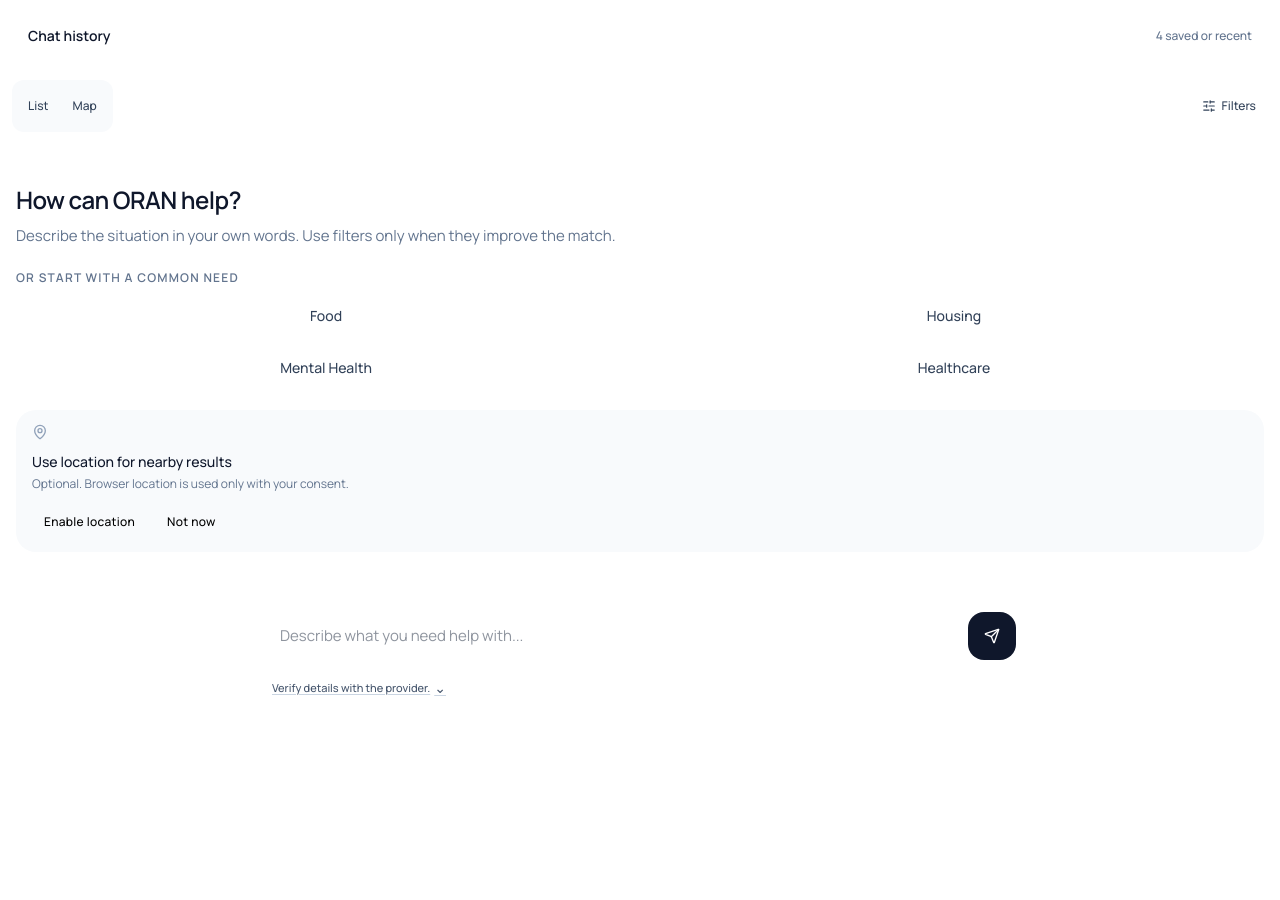
Test: ChatWindow interactions › handles Enter key submission and network failures gracefully
Type "Need assistance" into the text box named "Chat message input" at (612, 636), box left=264, top=612, right=960, bottom=660
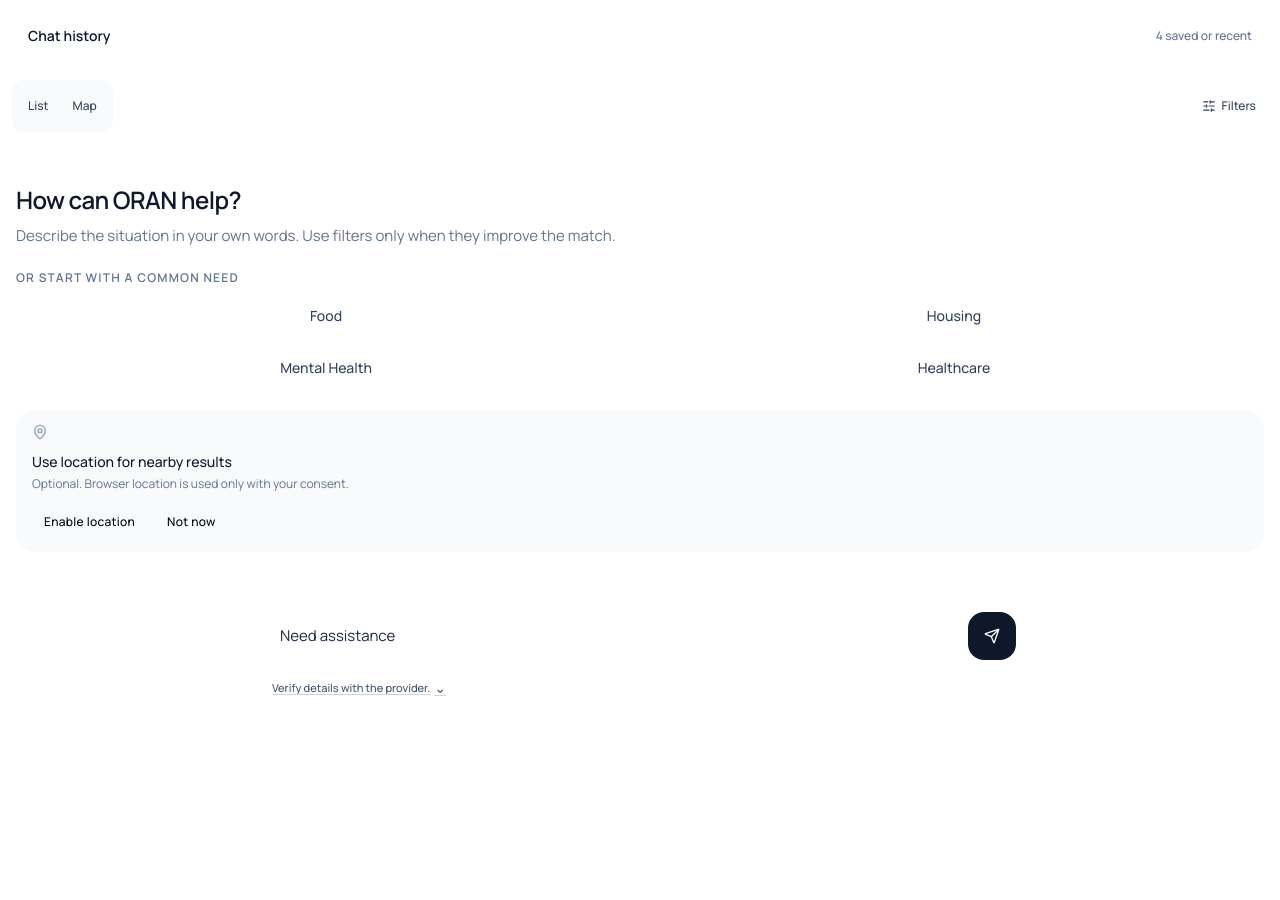
Press Enter in the text box named "Chat message input", box left=264, top=612, right=960, bottom=660
Press Enter in the text box named "Chat message input", box left=264, top=612, right=960, bottom=660
Press Enter in the text box named "Chat message input", box left=264, top=612, right=960, bottom=660
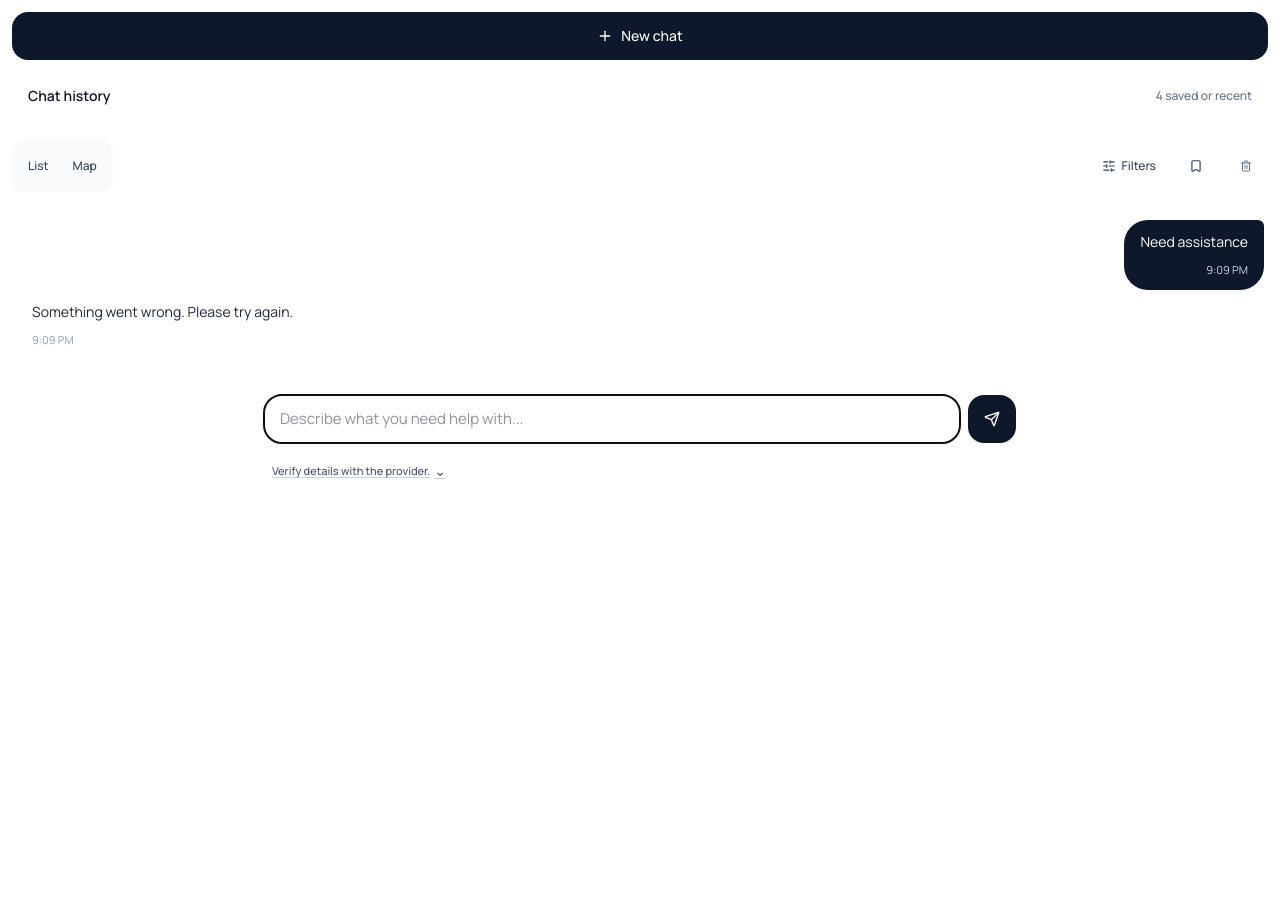
Result: the text "Something went wrong. Please try again." is shown at left=32, top=302, right=293, bottom=322
